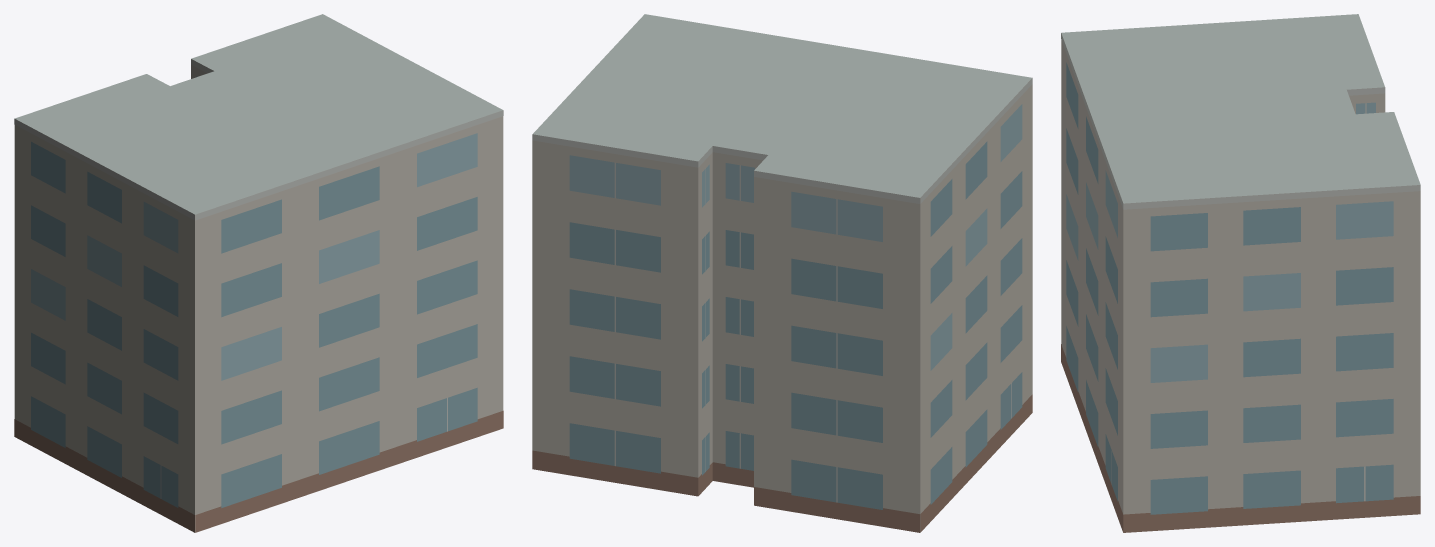
The model's file is survey-upis-32576995.glb.
3 renders of one model, left to right at view 1: azimuth 30°, elevation 25°; view 2: azimuth 150°, elevation 25°; view 3: azimuth 270°, elevation 25°, orthographic. The views are drawn at different scales.
Visible parts, largest first — view 1: survey-upis-32576995.tmp; view 2: survey-upis-32576995.tmp; view 3: survey-upis-32576995.tmp.
Part boxes in pixels (x1,y1,x2,y2): survey-upis-32576995.tmp: (14, 14, 503, 532); survey-upis-32576995.tmp: (532, 14, 1032, 532); survey-upis-32576995.tmp: (1061, 14, 1420, 532).
Bounding box in the file's own units: 16.18 × 13.1 × 12.97.
